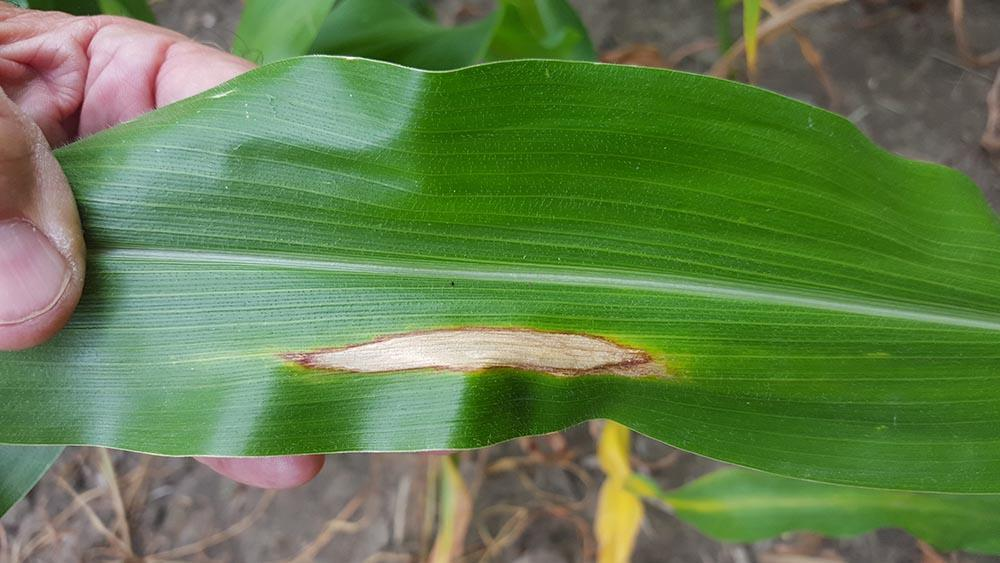Corn_Blight: (216, 319, 667, 406)
